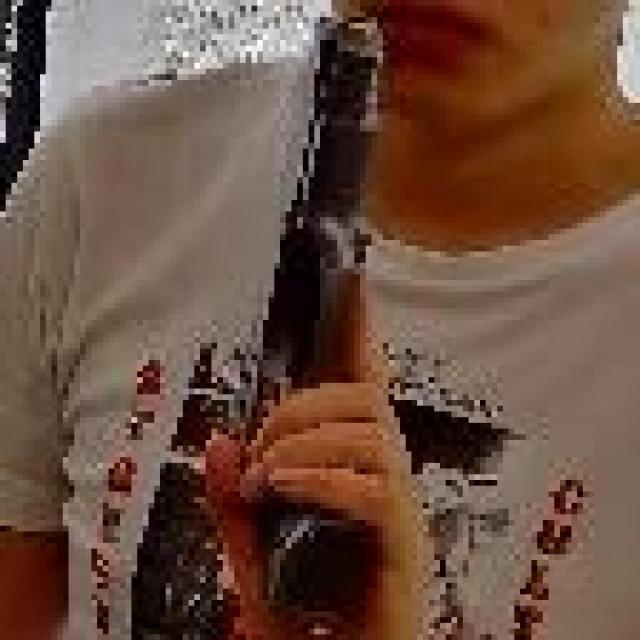pistol: (187, 7, 490, 630)
